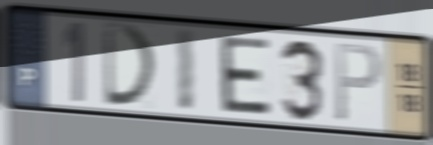1: (62, 19, 85, 105)
3: (278, 36, 325, 124)
D: (101, 20, 161, 109)
E: (216, 34, 273, 118)
I: (174, 26, 197, 114)
P: (333, 40, 384, 125)
